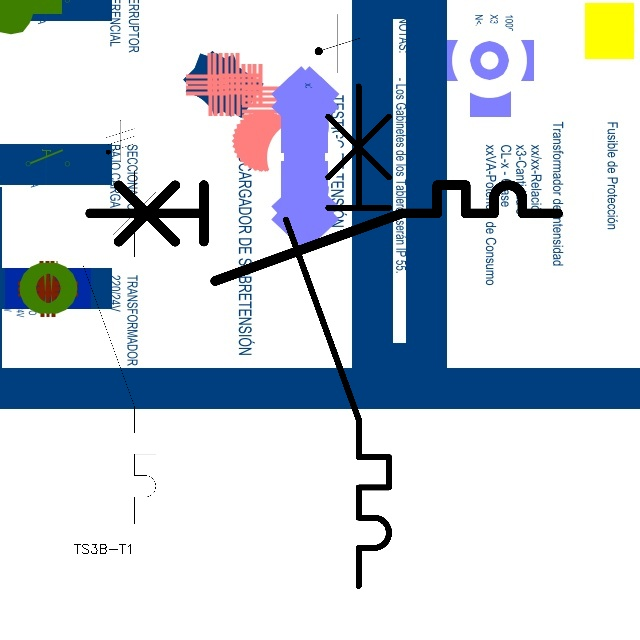interruptor_termomagnetico: (273, 73, 402, 599), (78, 173, 570, 293), (74, 162, 165, 533)
